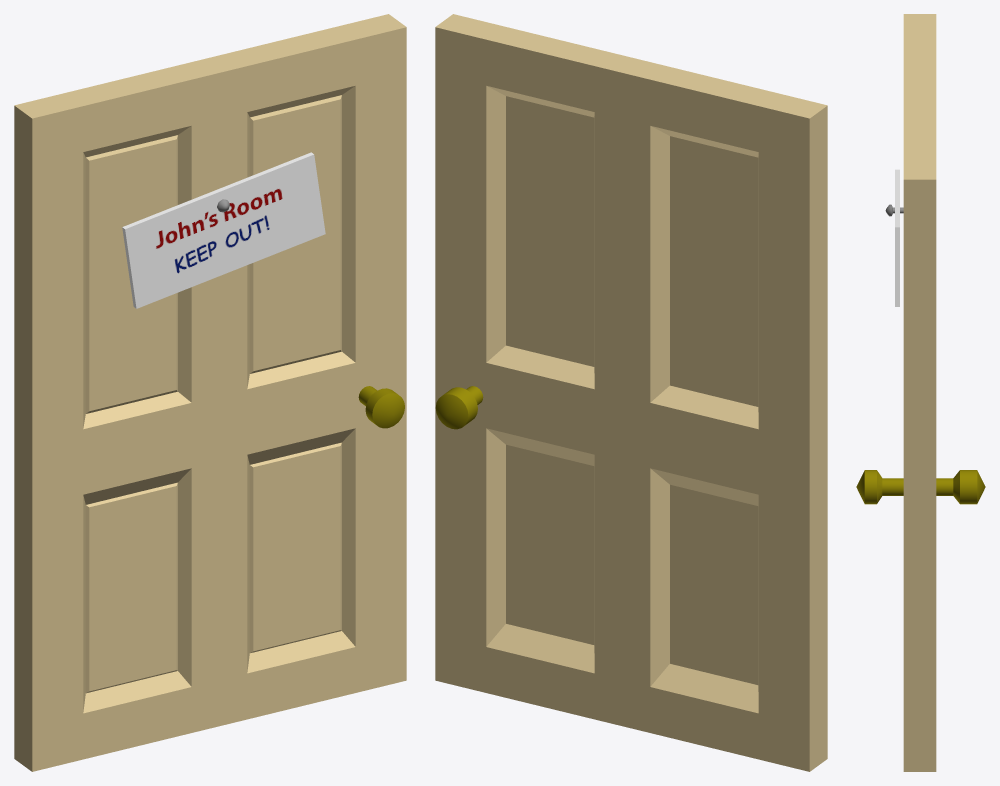
The model's file is JK-door.fbx.
3 views of the same model, side by side, from view 1: azimuth 30°, elevation 25°; view 2: azimuth 150°, elevation 25°; view 3: azimuth 270°, elevation 25° (orthographic). The views are drawn at different scales.
Parts seen in each view (by area): view 1: pCube1, pCube2, pCylinder1; view 2: pCube1, pCylinder1; view 3: pCube1, pCylinder1, pCube2.
Boxes of the visible parts, x1,y1,x2,y2 form: pCube1: [14, 14, 406, 771]; pCube2: [122, 152, 325, 308]; pCylinder1: [358, 386, 404, 428]; pCube1: [435, 14, 827, 771]; pCylinder1: [435, 386, 483, 429]; pCube1: [903, 14, 936, 771]; pCylinder1: [856, 470, 985, 504]; pCube2: [895, 169, 899, 306].
Size of the model in its own units: 6 by 10 by 1.98.
Materials: 4 (1 with a texture image).
